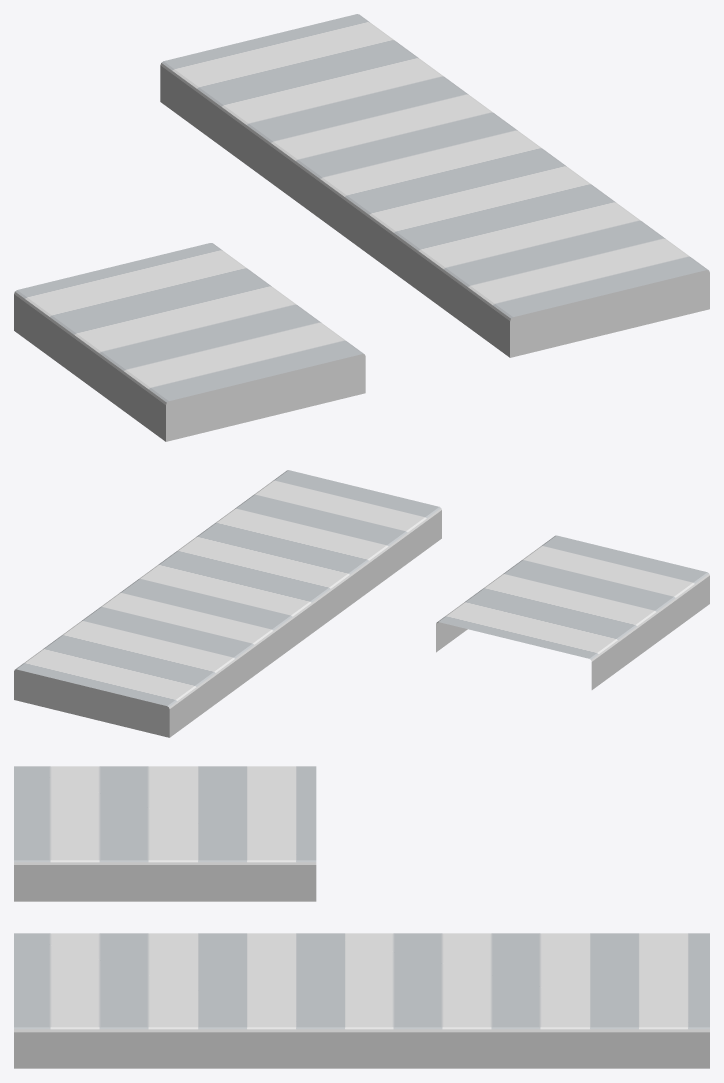
Rendered from WitchRunnerRoad.fbx.
3 views of the same model, one above another, from view 1: azimuth 30°, elevation 25°; view 2: azimuth 150°, elevation 25°; view 3: azimuth 270°, elevation 25° (orthographic). The views are drawn at different scales.
Visible parts, largest first — view 1: Road-Long, Road-Short; view 2: Road-Long, Road-Short; view 3: Road-Long, Road-Short.
Part boxes in pixels (x1,y1,x2,y2): Road-Long: (160, 14, 709, 357); Road-Short: (14, 243, 365, 441); Road-Long: (14, 470, 441, 737); Road-Short: (436, 535, 709, 689); Road-Long: (14, 933, 709, 1068); Road-Short: (14, 766, 316, 901).
Size of the model in its own units: 2849 by 200 by 3172.
1 material, 1 textured.
